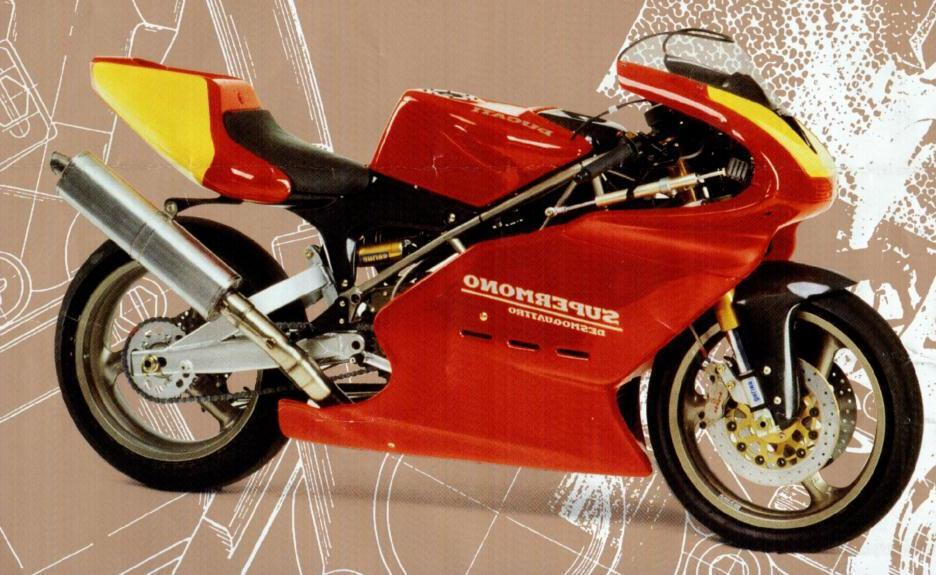motorcycle: (22, 23, 929, 561)
